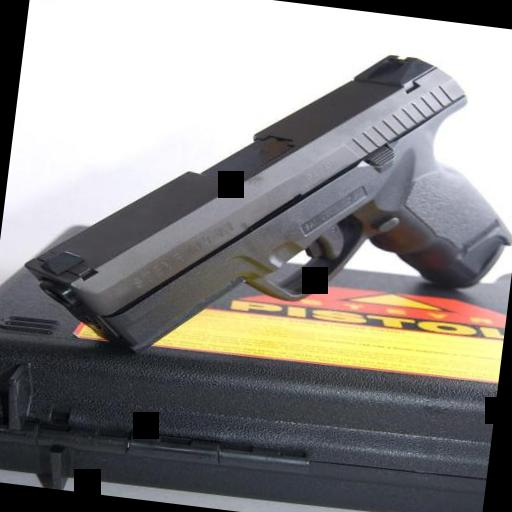Handgun: (7, 0, 512, 400)
